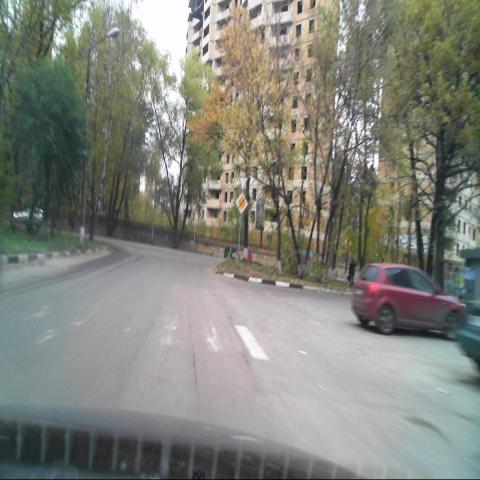2_2: (236, 193, 248, 215)
